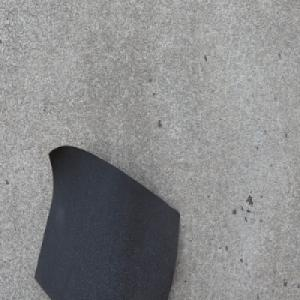PaintChip: (33, 143, 180, 300)
